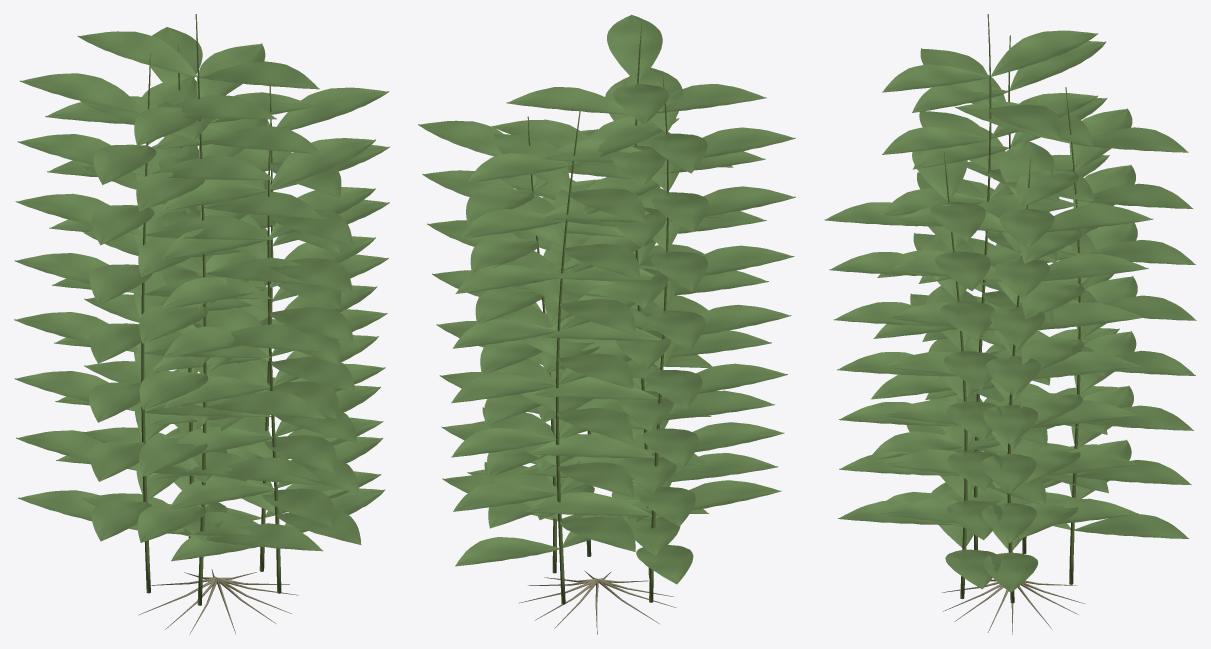
File: corymbosa-mobile.glb
3 views of the same model, side by side, from view 1: azimuth 30°, elevation 25°; view 2: azimuth 150°, elevation 25°; view 3: azimuth 270°, elevation 25° (orthographic). The views are drawn at different scales.
Parts seen in each view (by area): view 1: opposite-leaf, branching-stem, anchoring-root; view 2: opposite-leaf, branching-stem, anchoring-root; view 3: opposite-leaf, branching-stem, anchoring-root.
Boxes of the visible parts, x1,y1,x2,y2 form: opposite-leaf: (14,27,389,561); branching-stem: (141,14,281,605); anchoring-root: (138,569,298,634); opposite-leaf: (418,14,795,584); branching-stem: (527,21,668,604); anchoring-root: (519,571,676,634); opposite-leaf: (824,30,1196,592); branching-stem: (944,14,1080,603); anchoring-root: (942,579,1084,634).
Size of the model in its own units: 0.6085 by 1.03 by 0.609.
